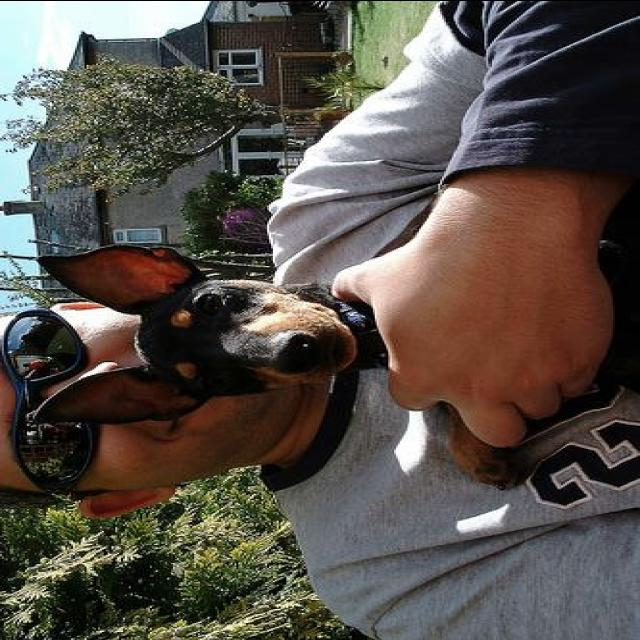toy_terrier: (32, 244, 638, 489)
